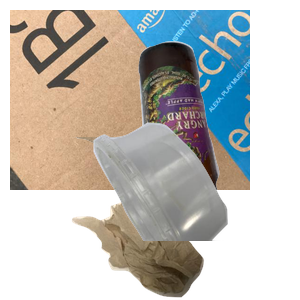cardboard: (10, 10, 250, 190)
glass: (136, 39, 300, 219)
plastic: (91, 120, 300, 300)
trash: (66, 137, 263, 300)
